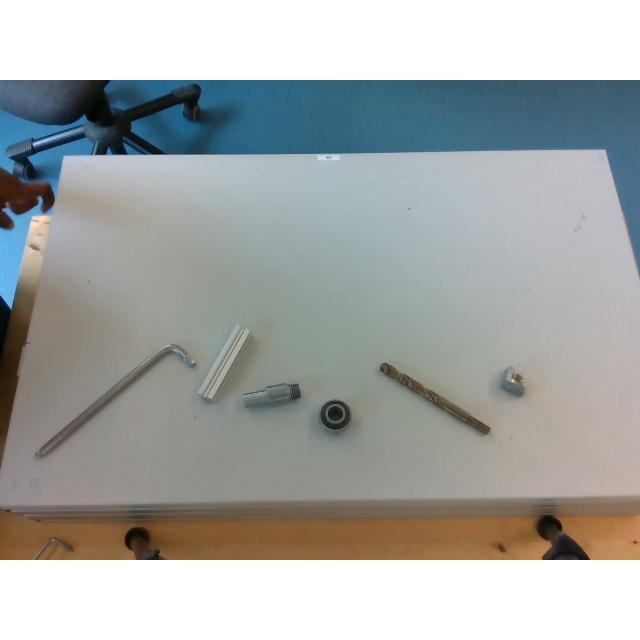AllenKey: (35, 344, 195, 456)
Axis2: (240, 383, 300, 407)
Bearing2: (318, 400, 349, 430)
Drill: (378, 362, 490, 434)
F20_20_G: (198, 324, 250, 400)
